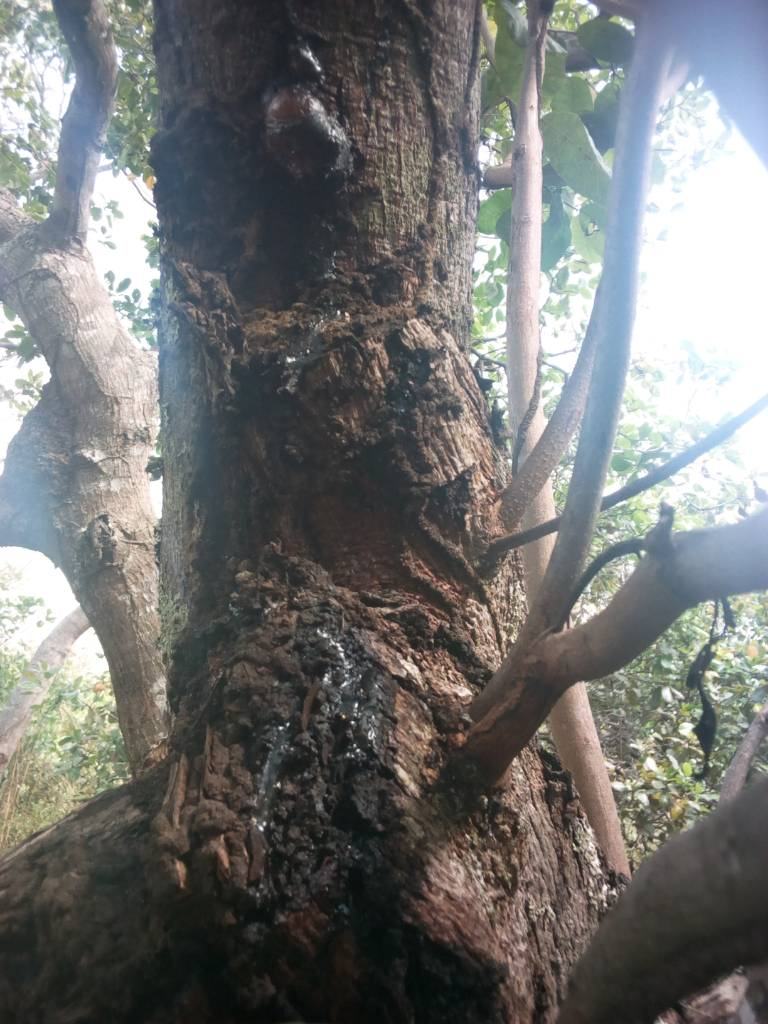Gommose: (221, 608, 385, 966), (257, 61, 368, 183)
